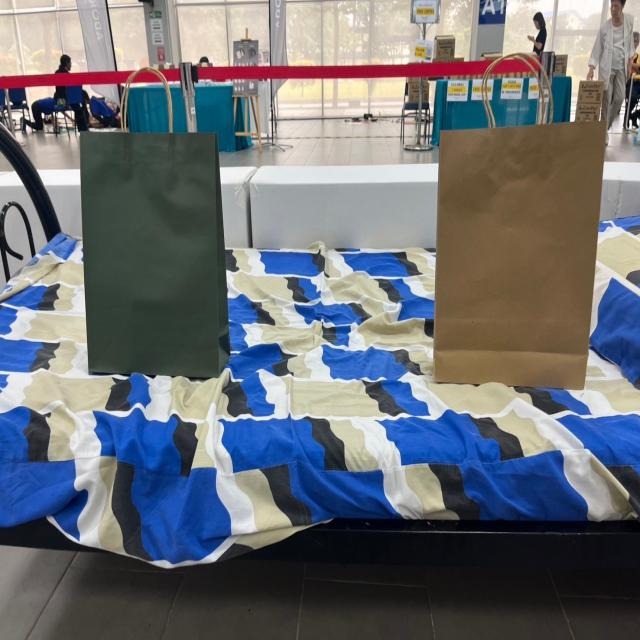bag: (440, 62, 586, 394), (84, 76, 218, 370)
